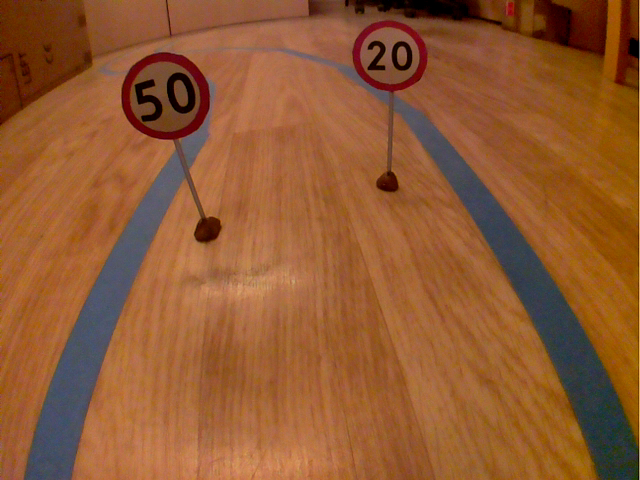Ograniczenie 20: (348, 16, 432, 95)
Ograniczenie 50: (118, 48, 213, 144)
